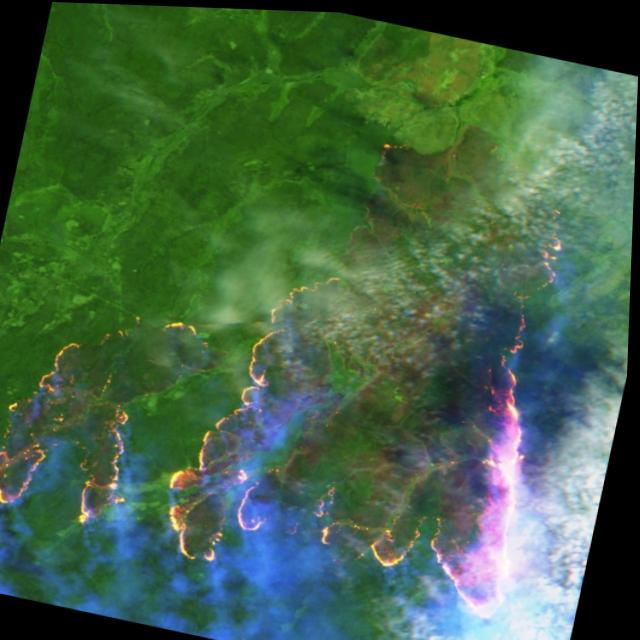fire: (153, 128, 624, 635), (0, 314, 173, 541)
